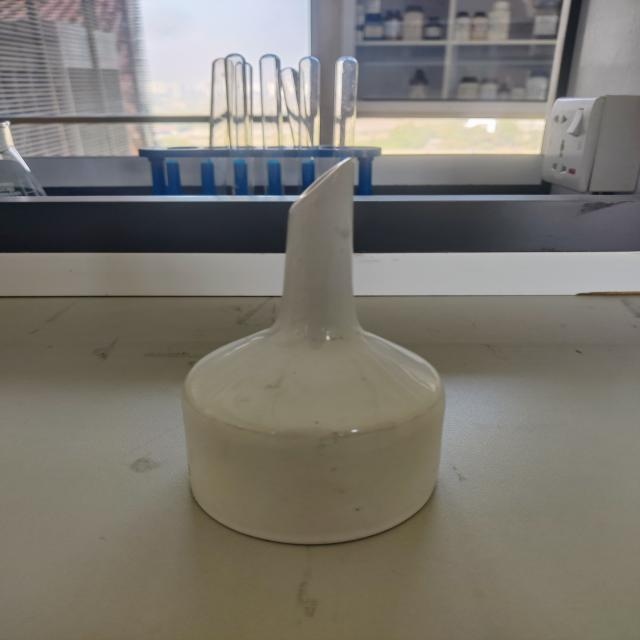Buchner_Funnel: (146, 134, 495, 576)
